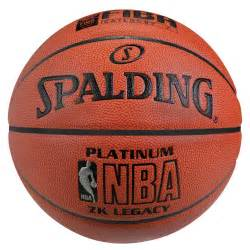basketball: (7, 8, 245, 250)
